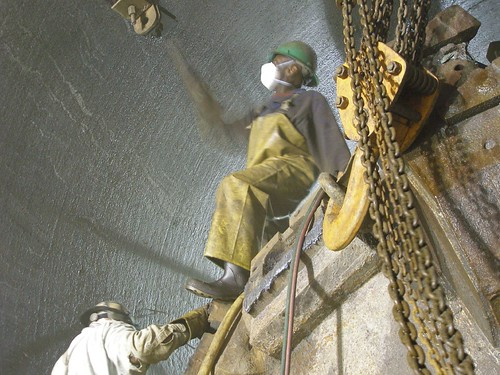person hardhat: (165, 36, 361, 288), (54, 296, 220, 369)
